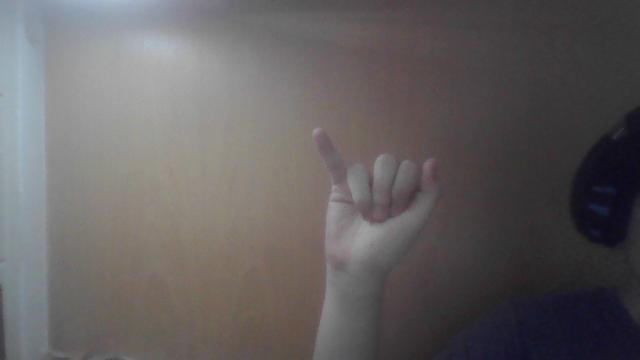Right: (298, 126, 446, 280)
